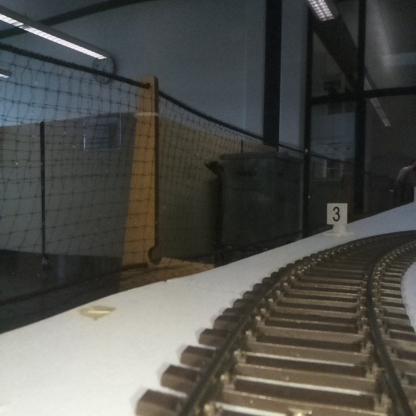white-stop-3: (327, 202, 347, 234)
